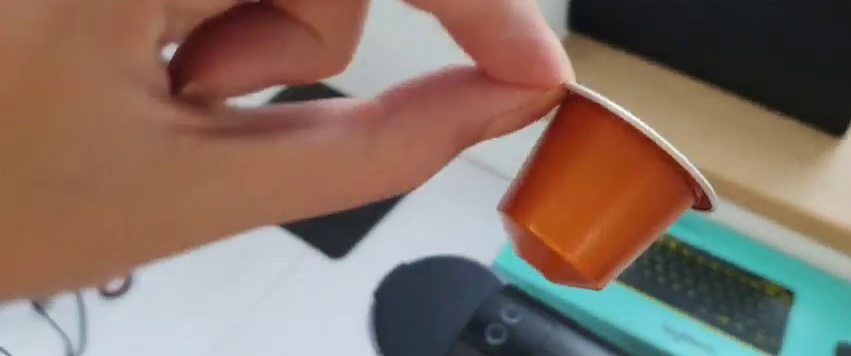capsule_5: (500, 82, 722, 295)
